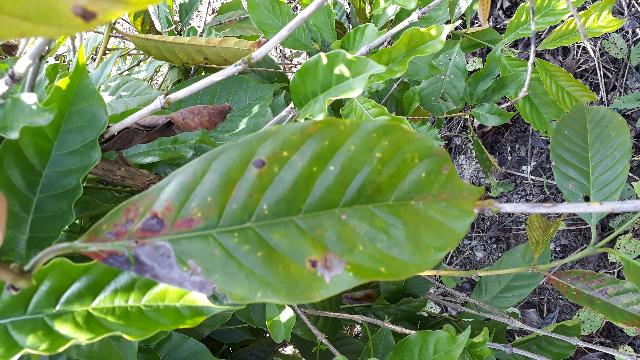rust_level_3: (25, 120, 489, 304)
